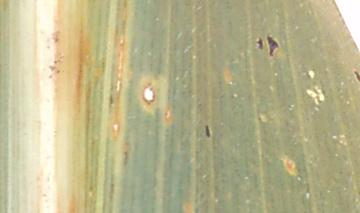tarspot: (266, 35, 279, 56), (203, 124, 212, 138), (256, 37, 265, 50), (353, 69, 360, 81)
